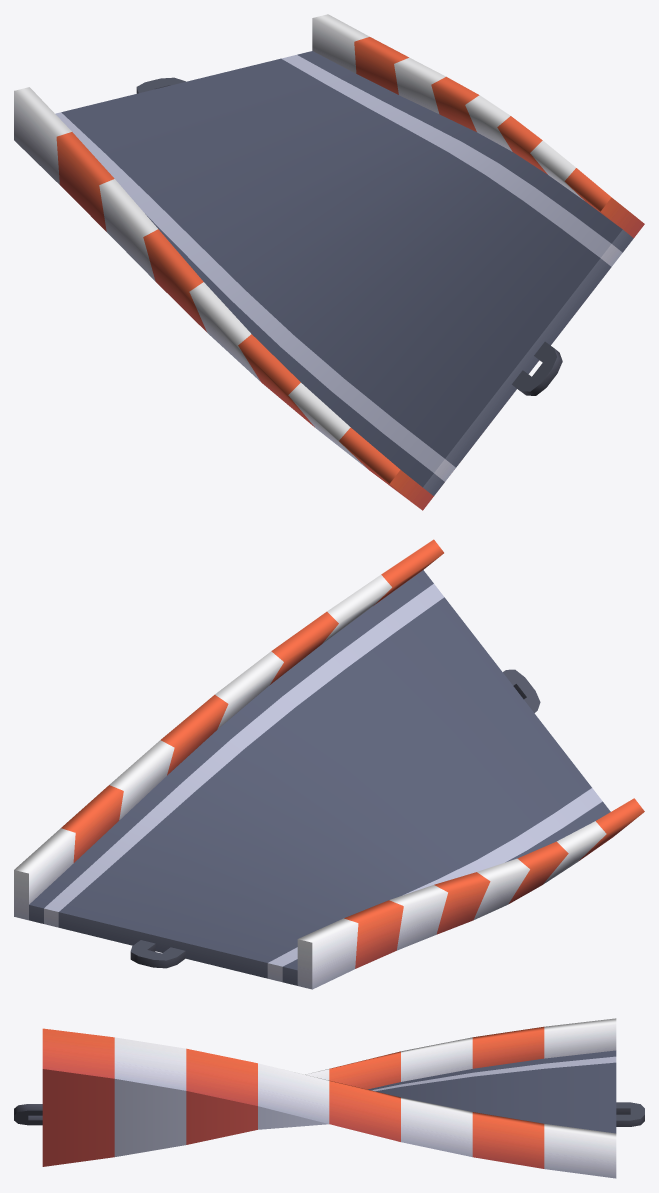
File: kenney-toy-car-track-road-wide-straight-skew-right.glb
3 views of the same model, one above another, from view 1: azimuth 30°, elevation 25°; view 2: azimuth 150°, elevation 25°; view 3: azimuth 270°, elevation 25° (orthographic). The views are drawn at different scales.
Parts seen in each view (by area): view 1: track-road-wide-straight-skew-right; view 2: track-road-wide-straight-skew-right; view 3: track-road-wide-straight-skew-right.
Boxes of the visible parts, bbox=[...] form: track-road-wide-straight-skew-right: bbox=[14, 14, 644, 510]; track-road-wide-straight-skew-right: bbox=[14, 539, 644, 989]; track-road-wide-straight-skew-right: bbox=[14, 1018, 644, 1178].
Bounding box in the file's own units: 2.04 × 1.63 × 4.4.
1 material, 1 textured.
